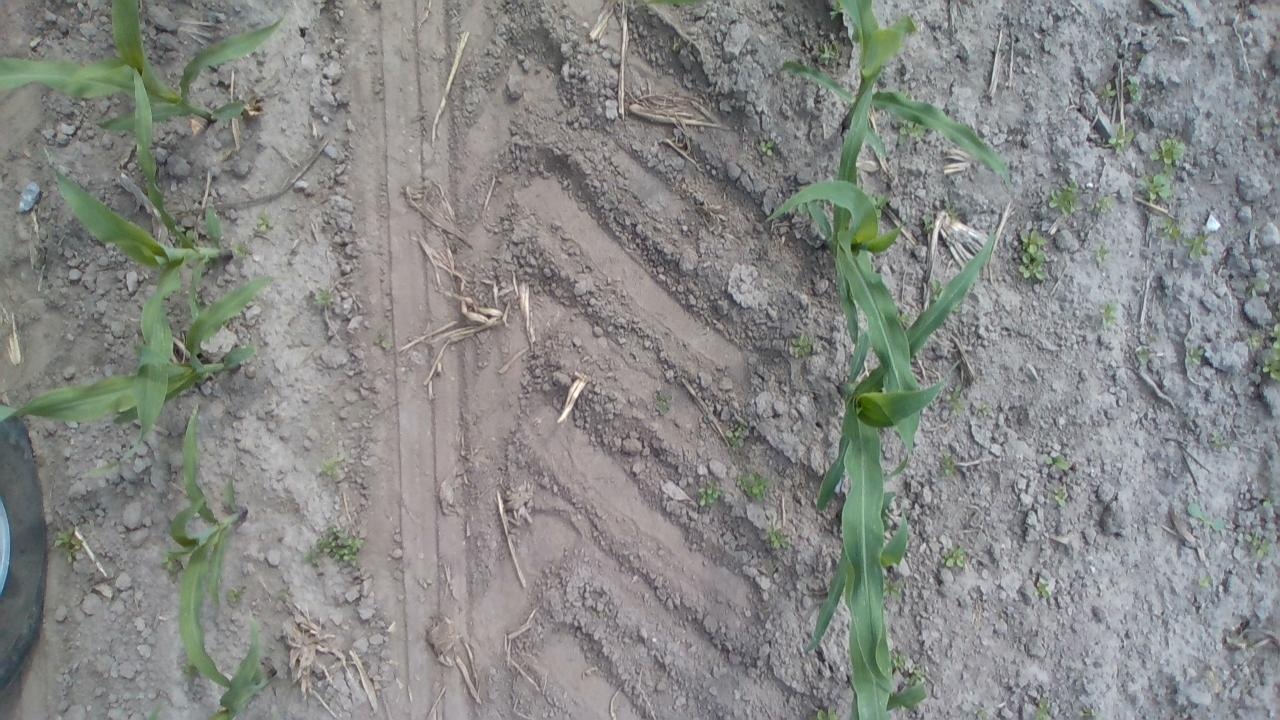Maize: (808, 227, 1004, 703), (41, 61, 236, 494), (762, 74, 934, 454), (0, 272, 278, 480), (768, 0, 1022, 205), (0, 0, 288, 141), (158, 400, 258, 697), (198, 612, 276, 720)
Weeds: (300, 522, 363, 568), (1016, 226, 1050, 284), (1185, 498, 1230, 534), (314, 449, 358, 483), (1047, 180, 1085, 218), (49, 522, 84, 562), (733, 468, 770, 504), (1138, 171, 1176, 203), (891, 112, 930, 142), (691, 477, 726, 510), (1150, 134, 1186, 166), (1106, 120, 1137, 156), (1263, 320, 1280, 384), (1181, 229, 1212, 264), (176, 656, 206, 692), (1241, 529, 1277, 558), (940, 542, 972, 574), (651, 387, 676, 427), (723, 413, 753, 446), (1134, 333, 1163, 365), (762, 523, 789, 556), (1087, 188, 1118, 216), (1031, 577, 1057, 610), (1190, 568, 1220, 596), (935, 444, 958, 480), (1184, 341, 1213, 369), (1042, 450, 1074, 475), (223, 582, 254, 607), (1098, 298, 1124, 326), (789, 330, 814, 359), (945, 383, 966, 417), (754, 136, 786, 158), (926, 274, 948, 306), (252, 210, 276, 238), (1046, 483, 1072, 508), (884, 650, 912, 673), (1253, 487, 1279, 511), (311, 285, 338, 308), (1159, 214, 1181, 242), (940, 198, 961, 226), (811, 37, 834, 62), (1031, 697, 1056, 720), (270, 583, 297, 603), (812, 704, 844, 720), (882, 581, 904, 604), (372, 330, 394, 352), (1124, 76, 1142, 101), (912, 668, 932, 690), (1092, 242, 1110, 266), (974, 396, 990, 422), (1251, 276, 1270, 296), (917, 210, 934, 232), (236, 239, 254, 258), (1098, 78, 1112, 98), (970, 707, 991, 719)
